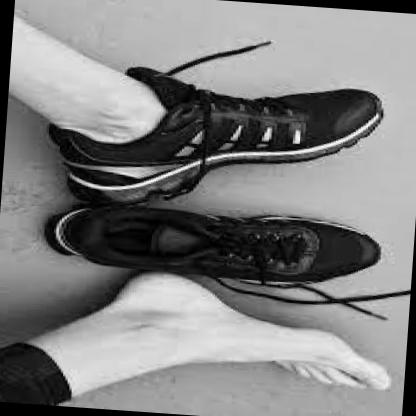ankle: (161, 319, 174, 330), (127, 137, 142, 146)
heel: (142, 276, 158, 283), (75, 189, 85, 196)
left_foot: (42, 70, 384, 221)
pinky: (343, 93, 353, 98), (287, 367, 295, 371)
right_foot: (111, 271, 397, 393)
toe: (360, 111, 372, 118), (376, 378, 384, 386)
